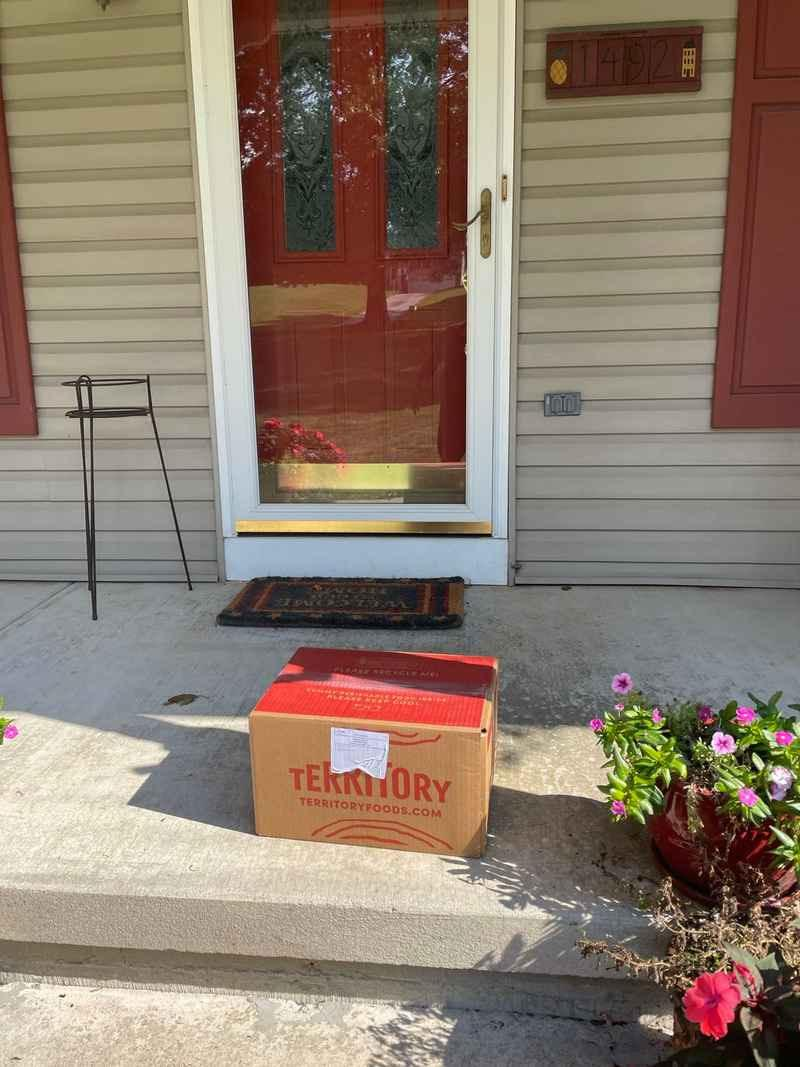package: (243, 640, 507, 863)
